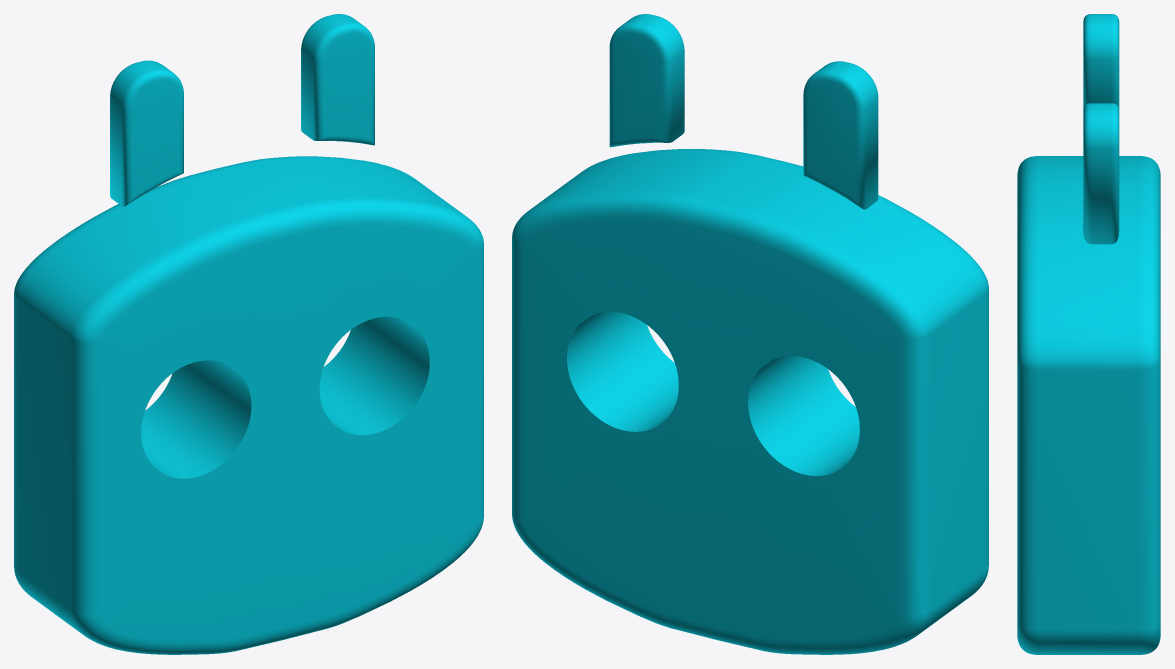
The model's file is TimelineElement_RemoteController.dae.
3 views of the same model, side by side, from view 1: azimuth 30°, elevation 25°; view 2: azimuth 150°, elevation 25°; view 3: azimuth 270°, elevation 25° (orthographic). The views are drawn at different scales.
Parts seen in each view (by area): view 1: RC_2x; view 2: RC_2x; view 3: RC_2x.
Part boxes in pixels (x1,y1,x2,y2): RC_2x: [14, 14, 483, 654]; RC_2x: [512, 14, 988, 654]; RC_2x: [1017, 14, 1160, 654].
Size of the model in its own units: 0.63 by 0.2 by 0.8399.
